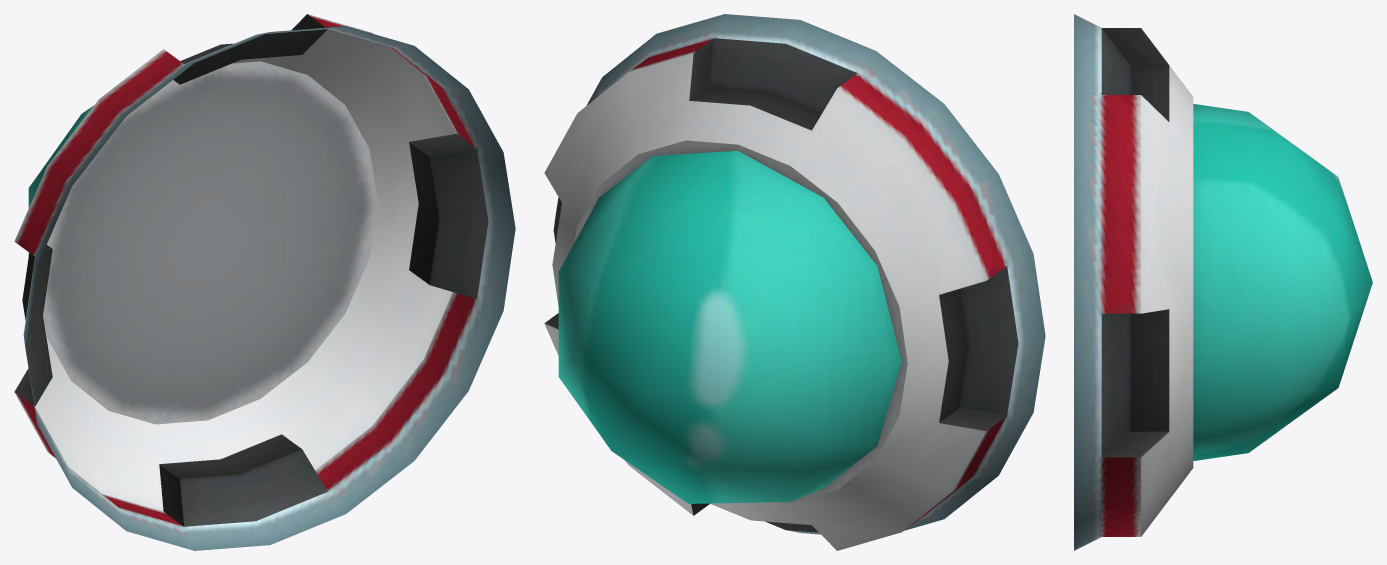
File: SpaceWindow.fbx
3 renders of one model, left to right at view 1: azimuth 30°, elevation 25°; view 2: azimuth 150°, elevation 25°; view 3: azimuth 270°, elevation 25°, orthographic. The views are drawn at different scales.
Visible parts, largest first — view 1: SpaceWindow; view 2: SpaceWindow; view 3: SpaceWindow.
Boxes of the visible parts, left/top/right/bottom form: SpaceWindow: left=14, top=14, right=515, bottom=550; SpaceWindow: left=544, top=14, right=1045, bottom=550; SpaceWindow: left=1074, top=14, right=1372, bottom=550.
Size of the model in its own units: 85.81 by 85.81 by 47.4.
